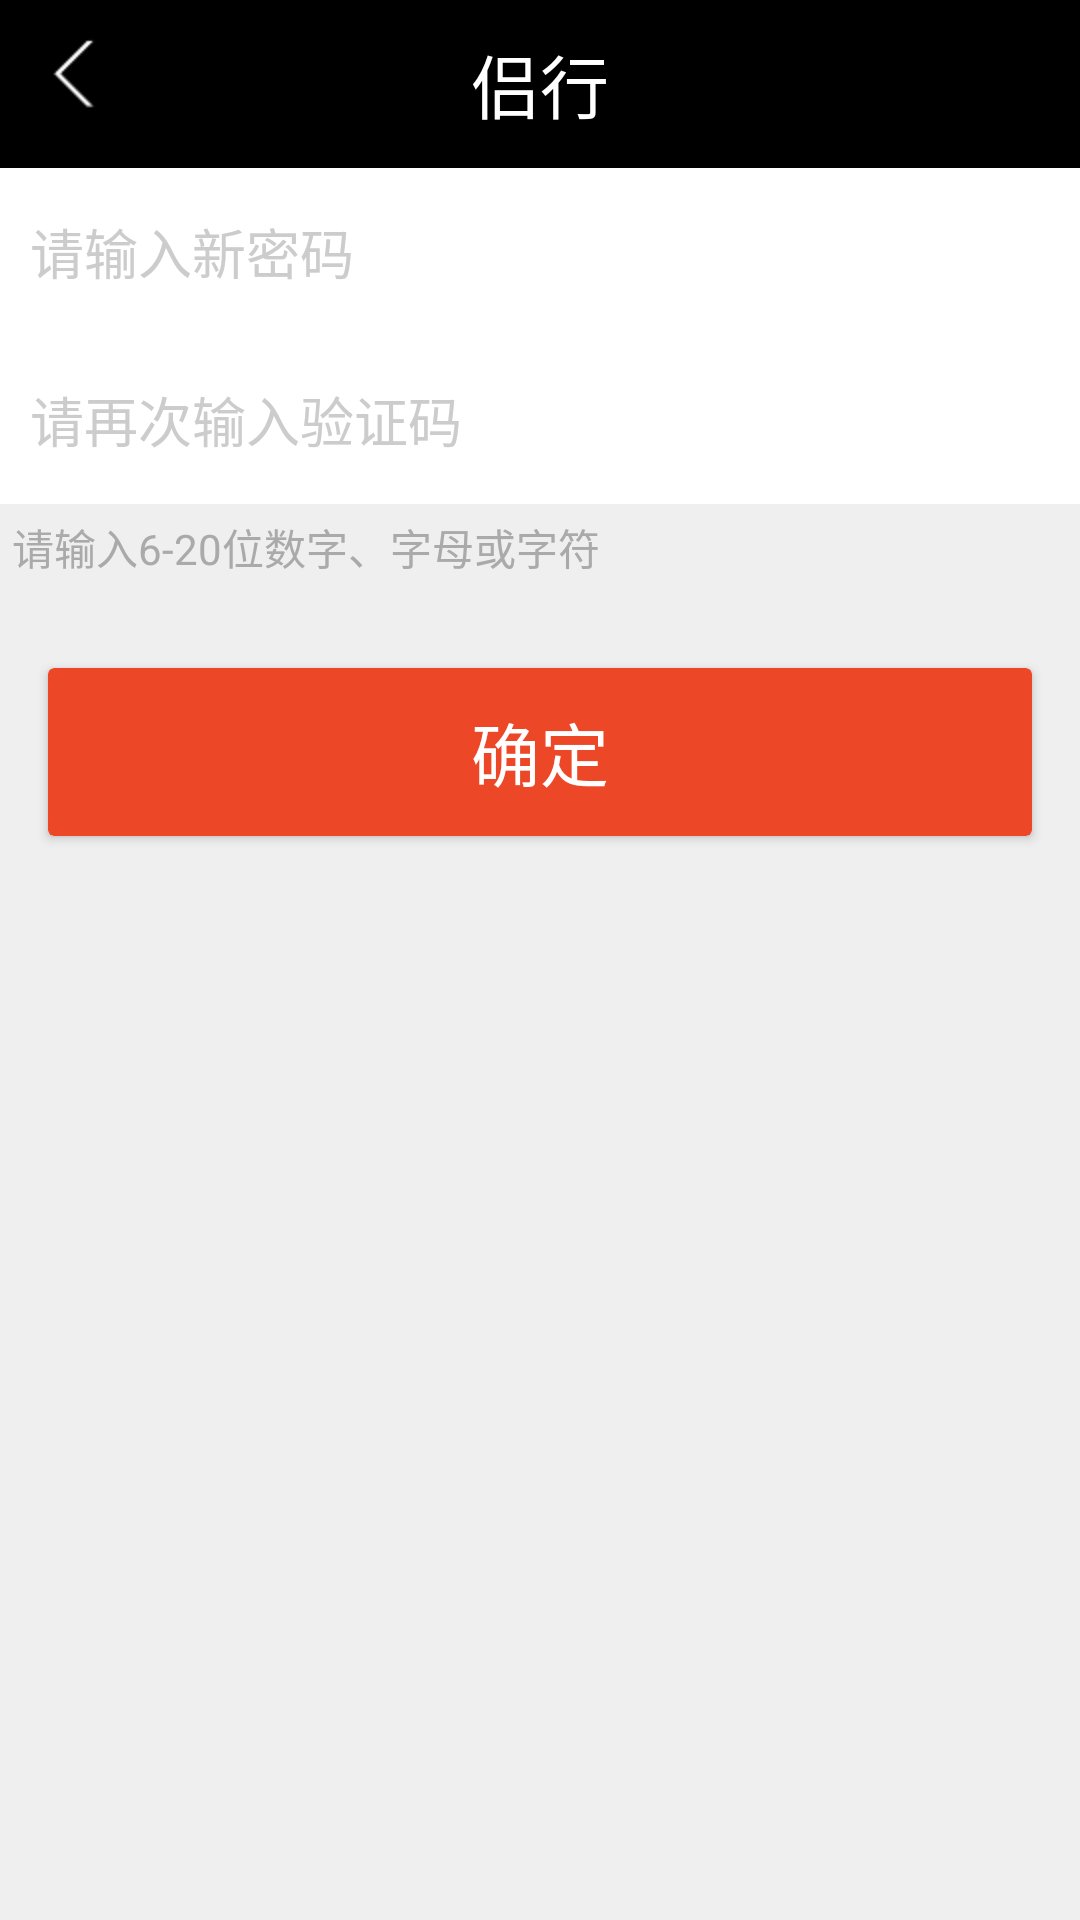

Point at icon controls on the screen. Image size 1080w x 1920h, points as point (x, y).
back: point (73, 74)
